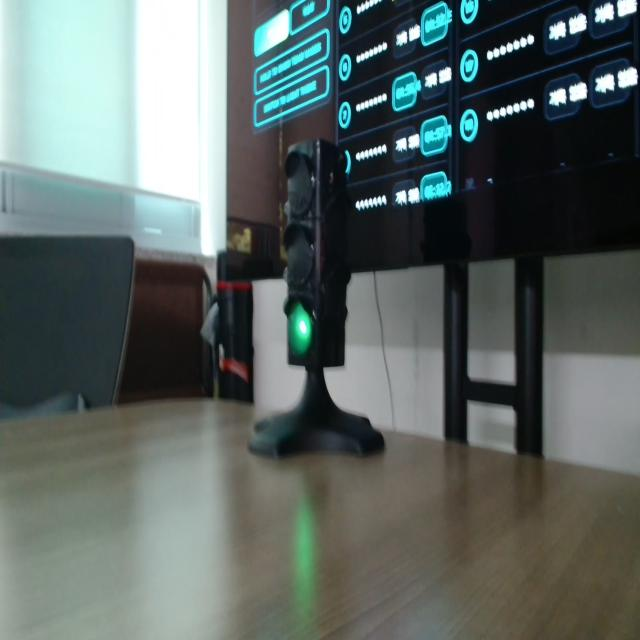green_light: (289, 304, 312, 356)
